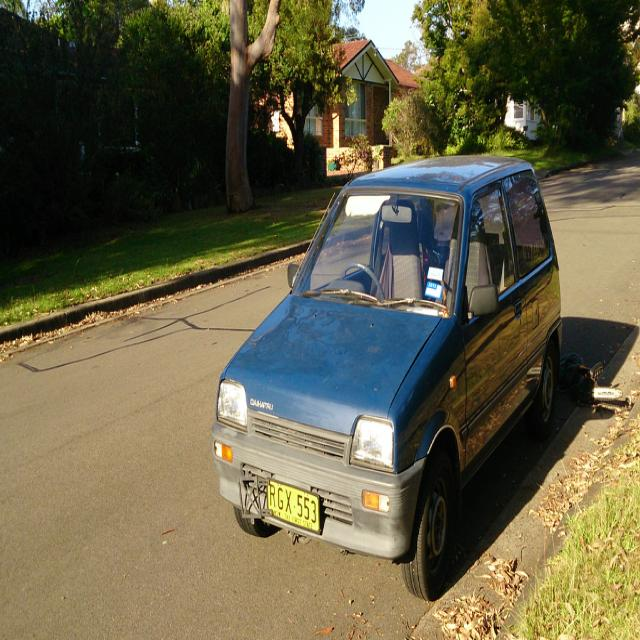car: (200, 147, 566, 583)
